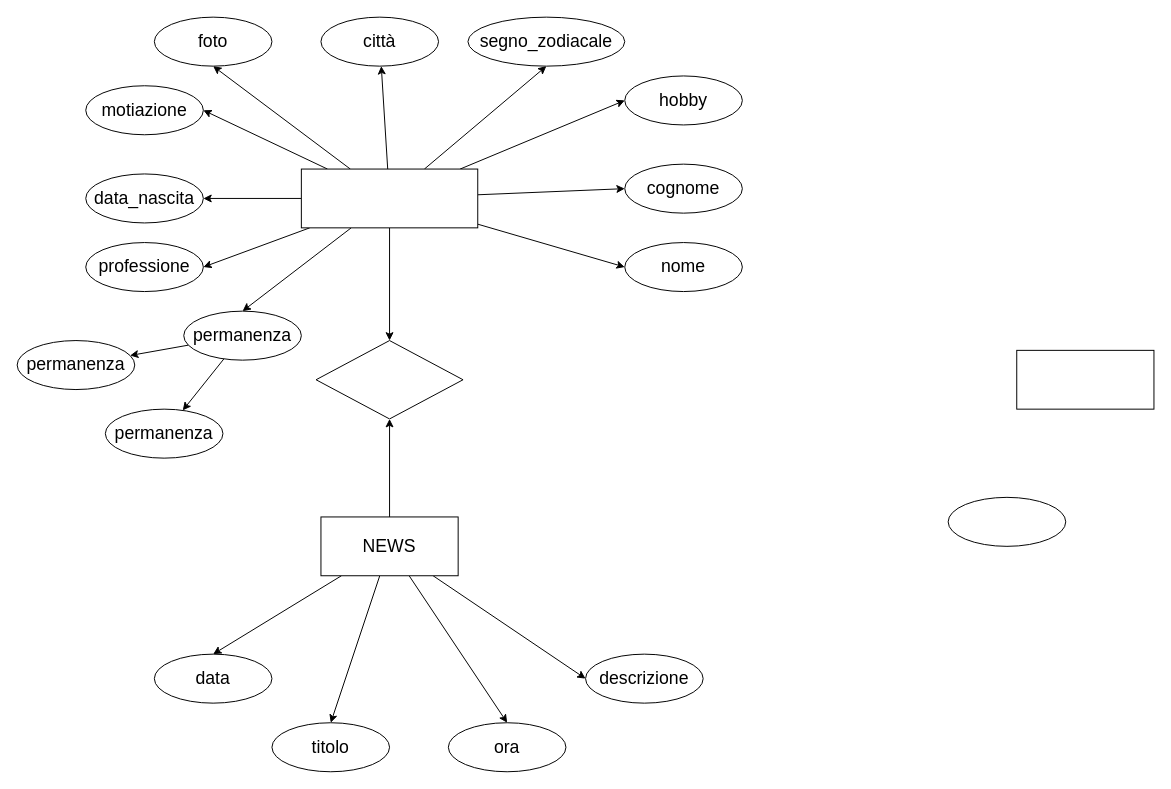
Some shapes in this 1171 by 789 pixel diagram are drawn without their labels. The centre of each missing label's shape, as x and y in pixels:
CONCORRENTE: pixel 389 198
PROVE: pixel 1085 379
ricevono: pixel 389 379
settimana: pixel 1006 521
